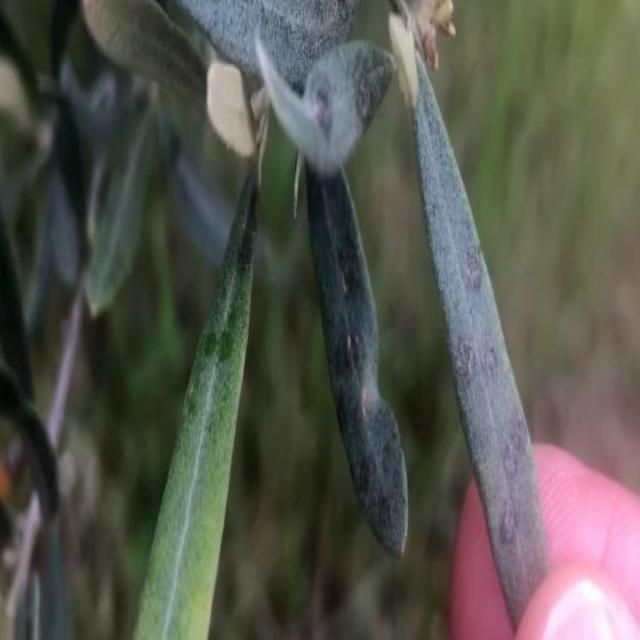Peacock Eye: (414, 86, 547, 633), (133, 164, 261, 638), (306, 162, 407, 554)
